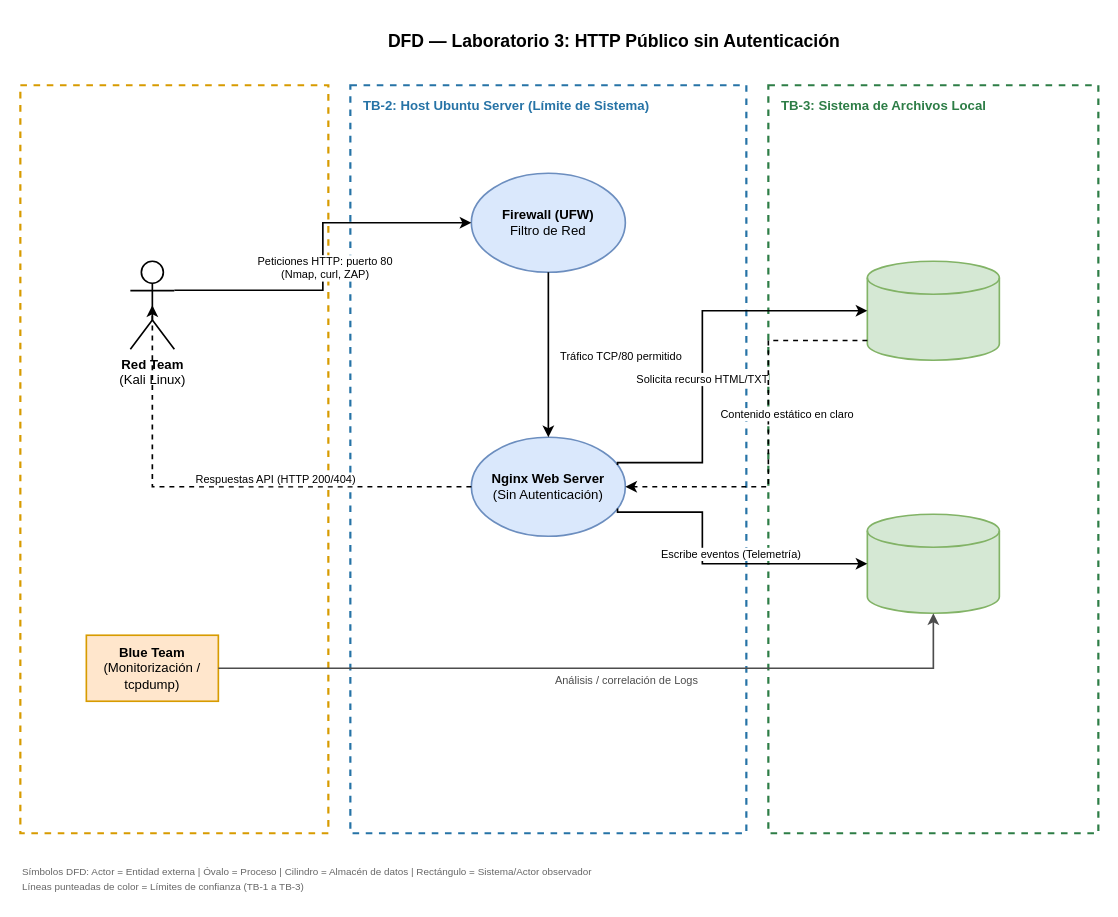
This 1118x917 diagram has some shape labels left out. Each missing label, with the box of its shape:
Archivos del Sitio index.html / txt: (866, 260, 1000, 361)
Logs Nginx access / error: (866, 513, 1000, 614)
TB-1: Entorno de Red (LAN / Internet): (19, 84, 329, 834)
